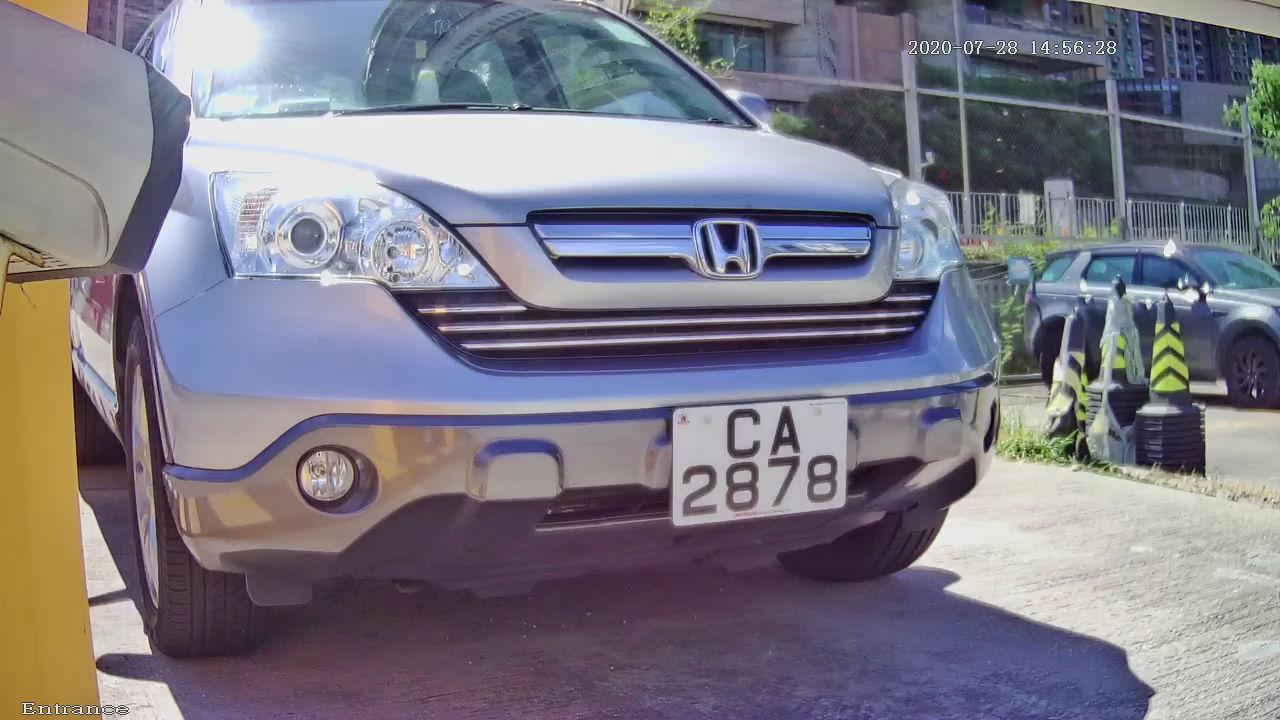privatecar: (18, 29, 1126, 692)
